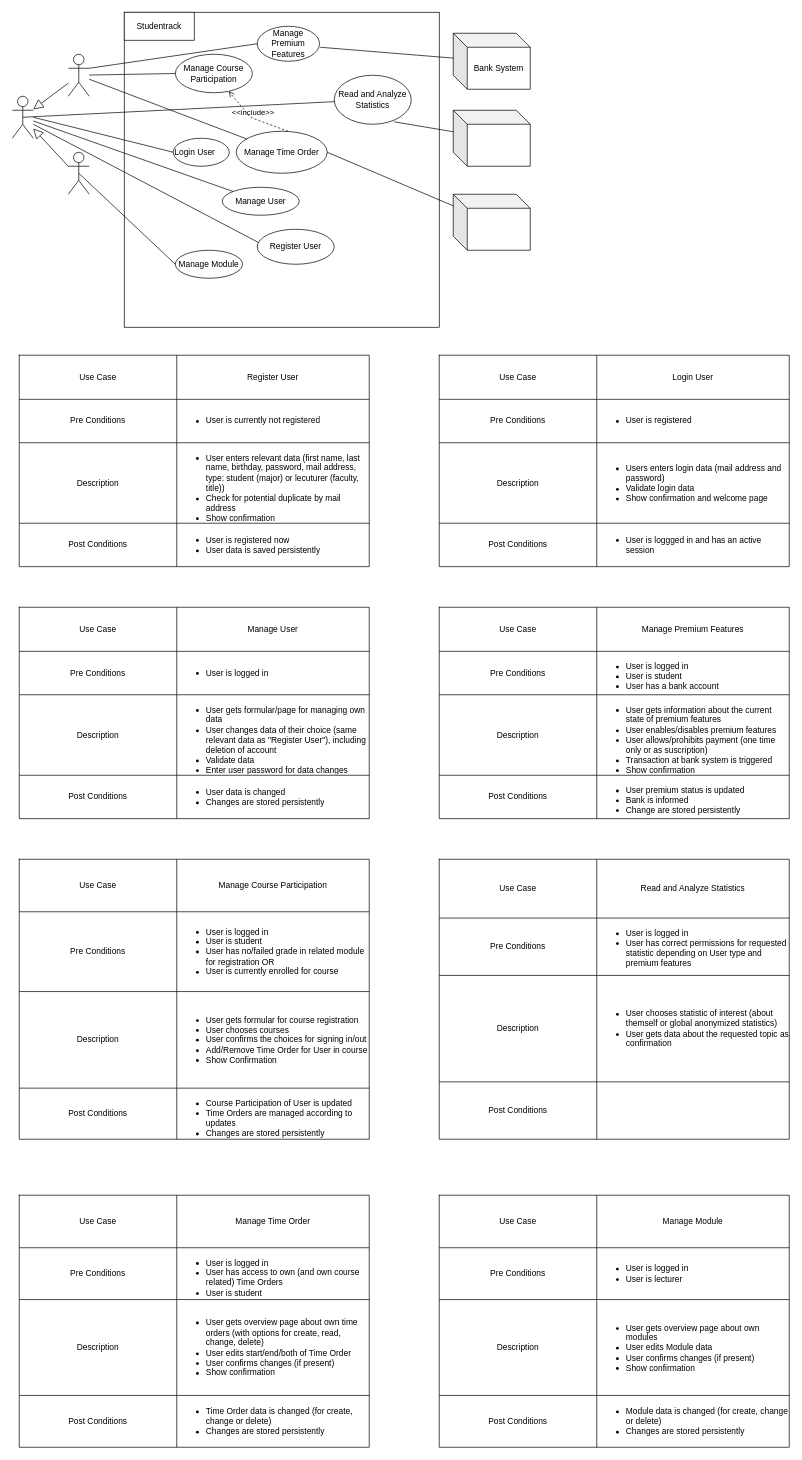
Some shapes in this 802 by 1460 pixel diagram are drawn without their labels. The shapes that lost their labels are listed below. From the top down, each one's centre as x and y in pixels, then its label:
At pixel 78 75: "Student".
At pixel 22 117: "User".
At pixel 491 138: "Recruiter System".
At pixel 78 173: "Lecturer".
At pixel 491 222: "Time Management System".
